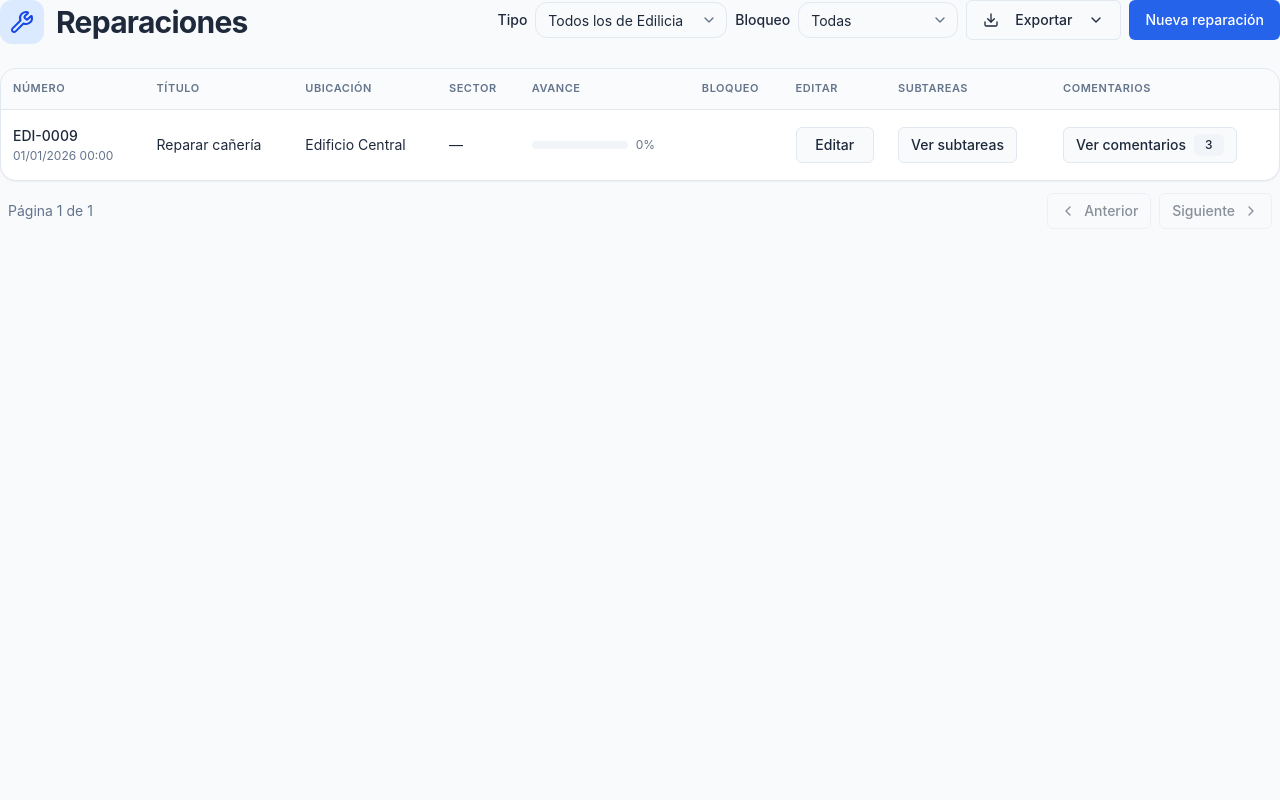
Test case: ReparacionesList — indicador de comentarios por fila › el boton abre el modal (con badge)
Expected: the text "EDI-0009" is shown, [13,126,78,144]
Step 1. Click the button with aria-label "Ver comentarios (3 comentarios)" → (1150, 144), box [1063,126,1236,162]
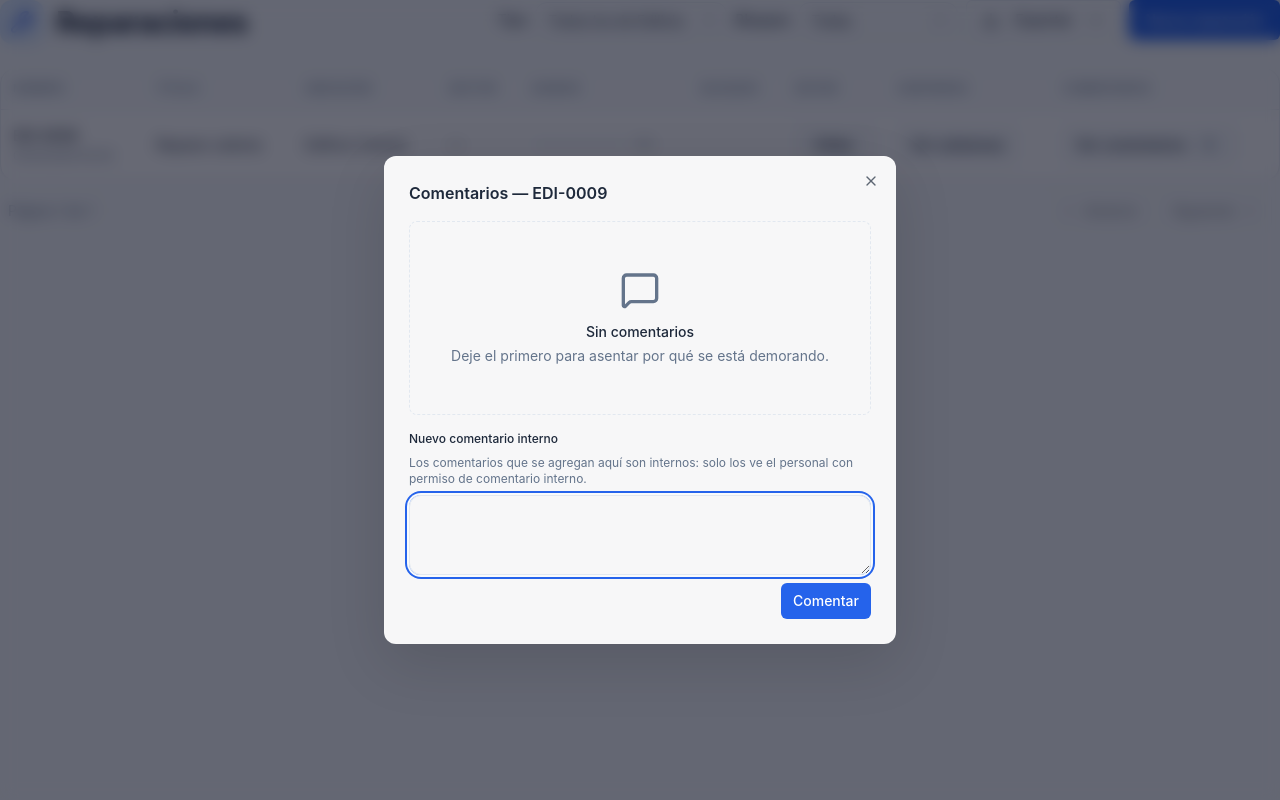
Expected: the heading "Comentarios — EDI-0009" is shown, [409,183,607,203]
